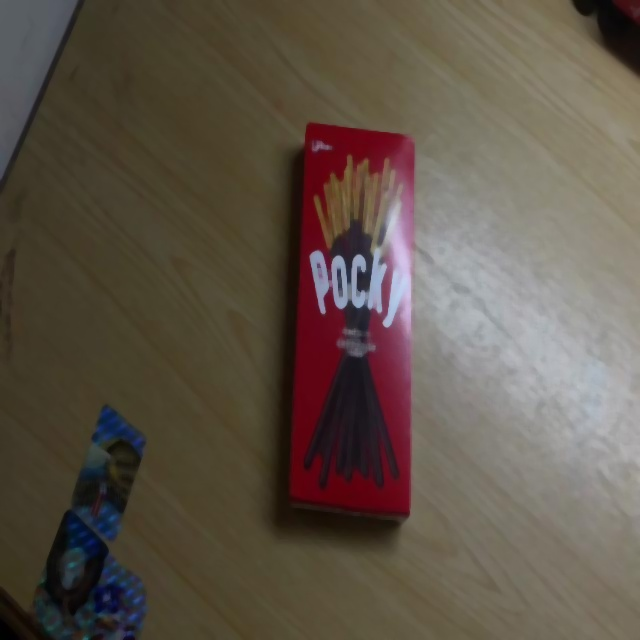Pocky: (286, 121, 417, 524)
